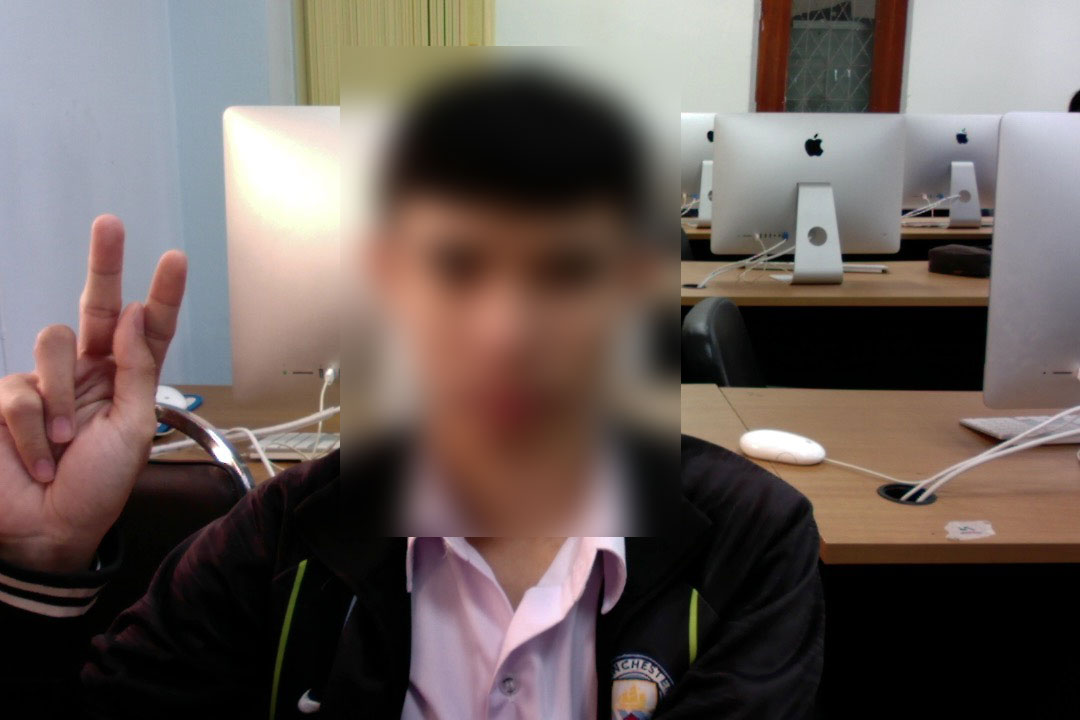ko: (0, 208, 218, 584)
